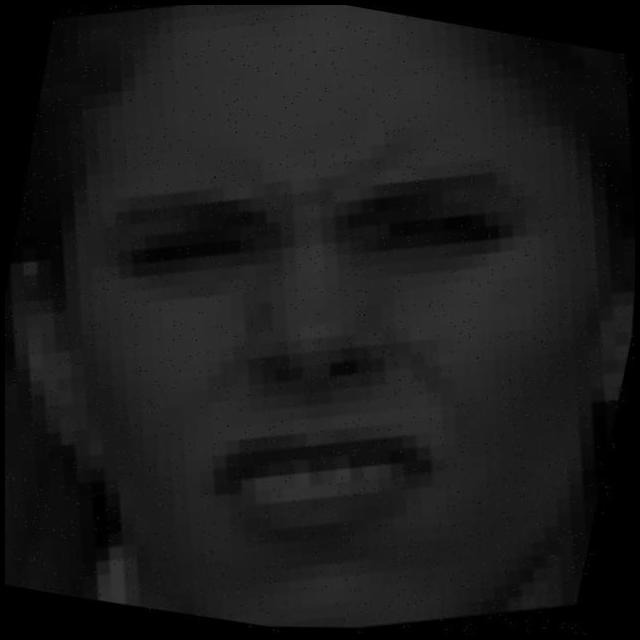Disgust: (82, 88, 544, 619)
